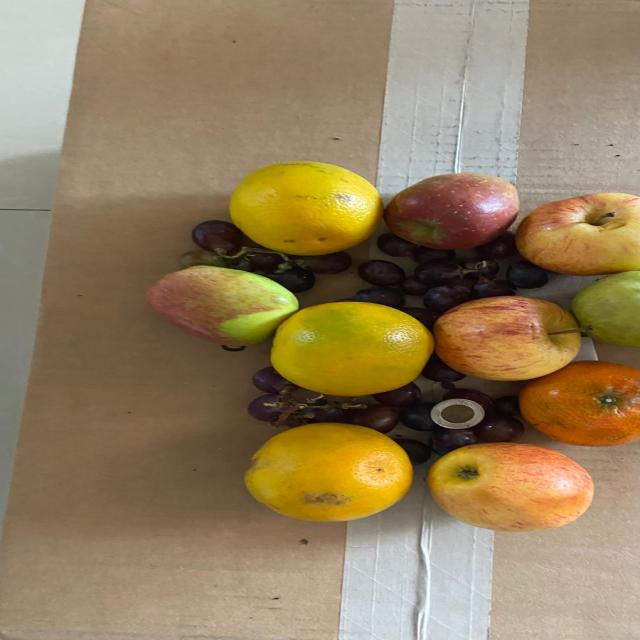moneda: (429, 394, 483, 430)
